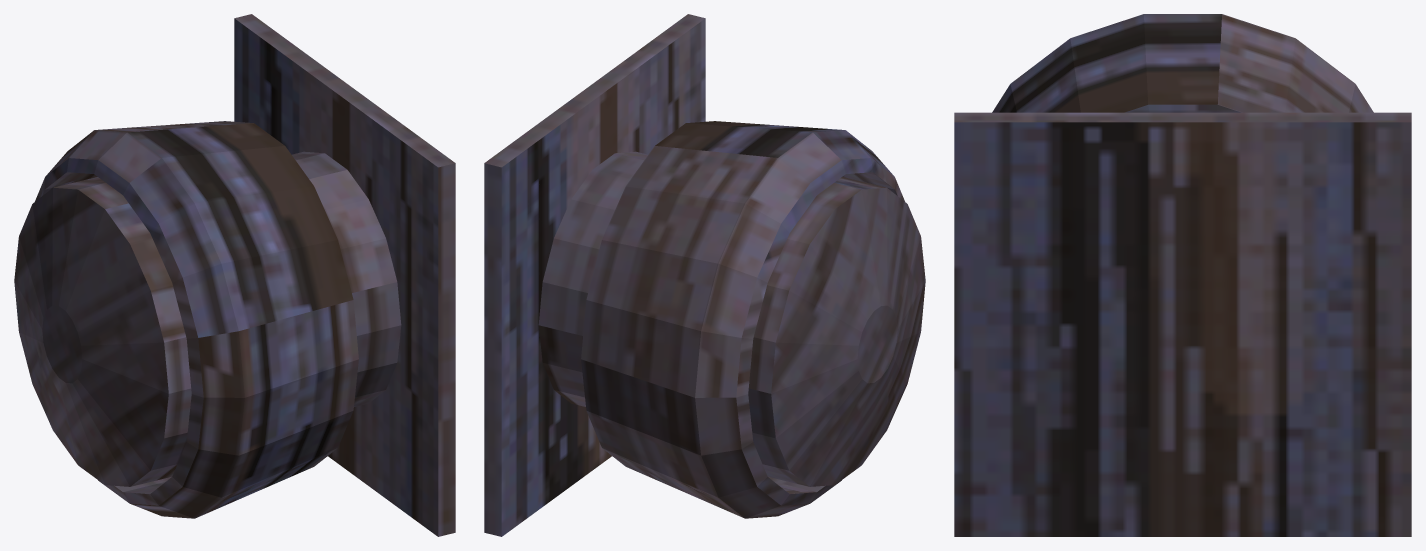
The model's file is SM_kitchvent.fbx.
3 views of the same model, side by side, from view 1: azimuth 30°, elevation 25°; view 2: azimuth 150°, elevation 25°; view 3: azimuth 270°, elevation 25° (orthographic). The views are drawn at different scales.
Visible parts, largest first — view 1: SM_kitchvent; view 2: SM_kitchvent; view 3: SM_kitchvent.
Part boxes in pixels (left/top/right/bottom): SM_kitchvent: left=14, top=14, right=455, bottom=536; SM_kitchvent: left=484, top=14, right=925, bottom=536; SM_kitchvent: left=954, top=14, right=1411, bottom=536.
Size of the model in its own units: 71.4 by 86.5 by 86.5.
